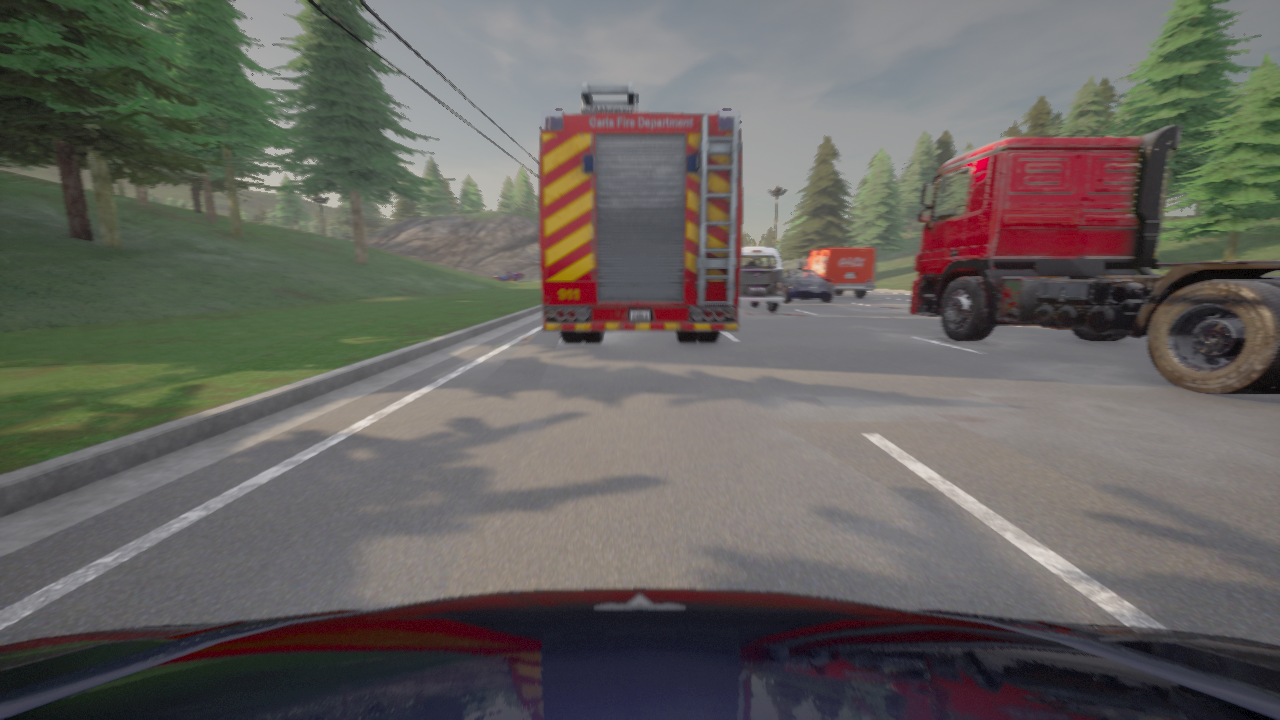cyclist: (0, 588, 1279, 719), (910, 124, 1279, 394), (539, 82, 742, 342), (798, 248, 874, 296), (740, 246, 783, 311), (783, 270, 833, 301), (494, 271, 523, 280)
